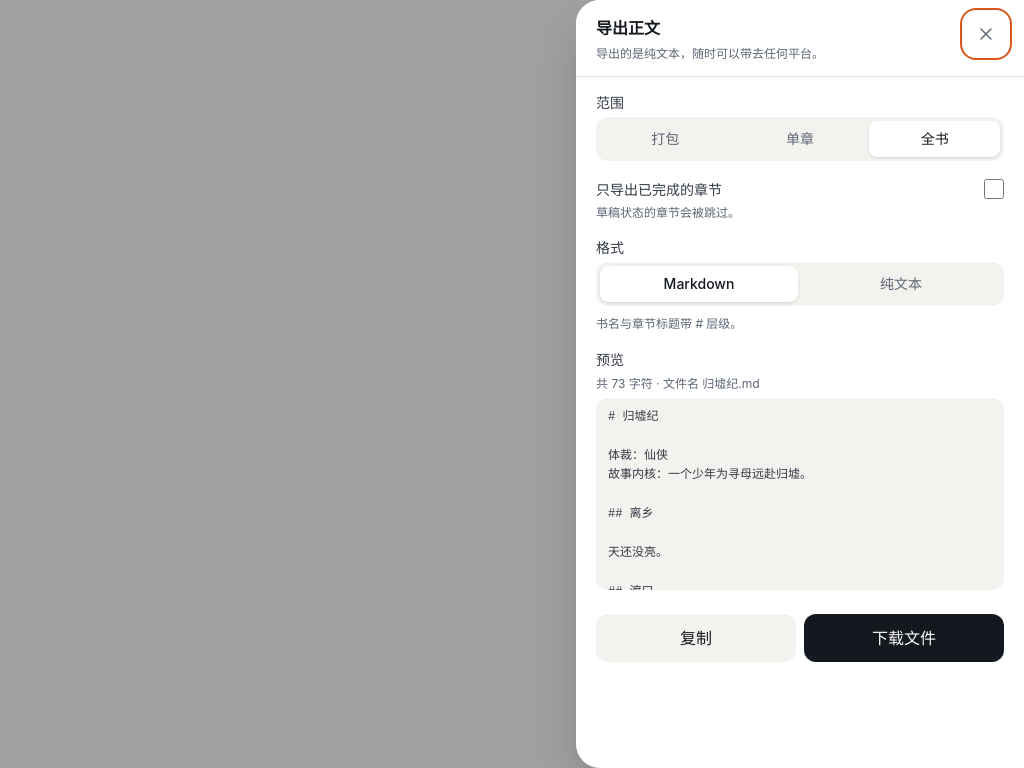
Test: 范围与格式 › 切到单章只导出选中的那一章
The width and height of the screenshot is (1024, 768).
Click the button "单章" at coordinates (800, 138), box [735, 120, 865, 156]
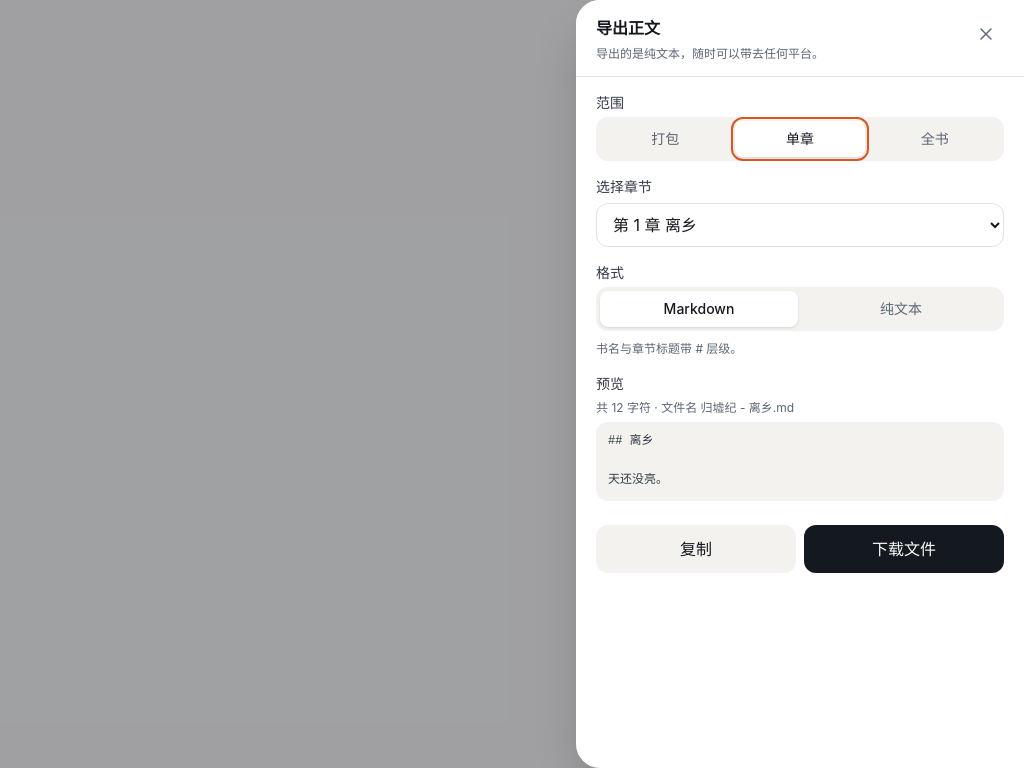
Select "第 2 章 渡口" in the dropdown labelled "选择章节" at coordinates (800, 224), box [596, 202, 1004, 246]
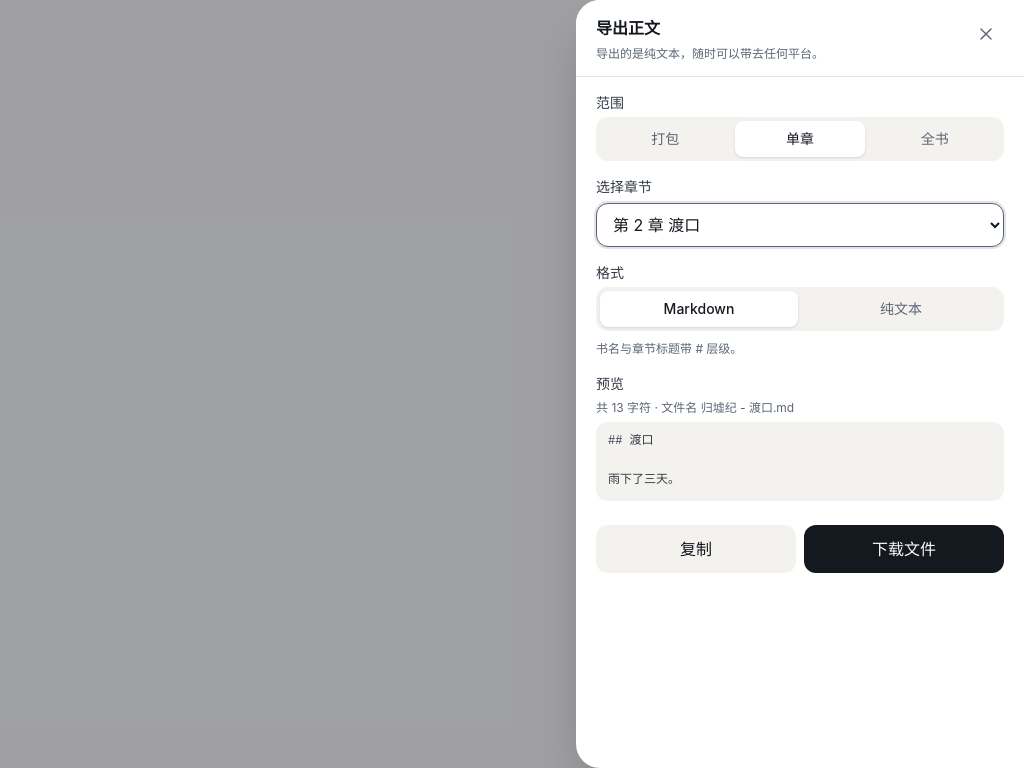
Expected: the text "## 渡口 雨下了三天。" is shown, [596, 422, 1004, 500]
Expected: the text "## 渡口 雨下了三天。" no longer shows "天还没亮。", [596, 422, 1004, 500]
Expected: the text "共 13 字符 · 文件名 归墟纪 - 渡口.md" is shown, [596, 400, 794, 415]
